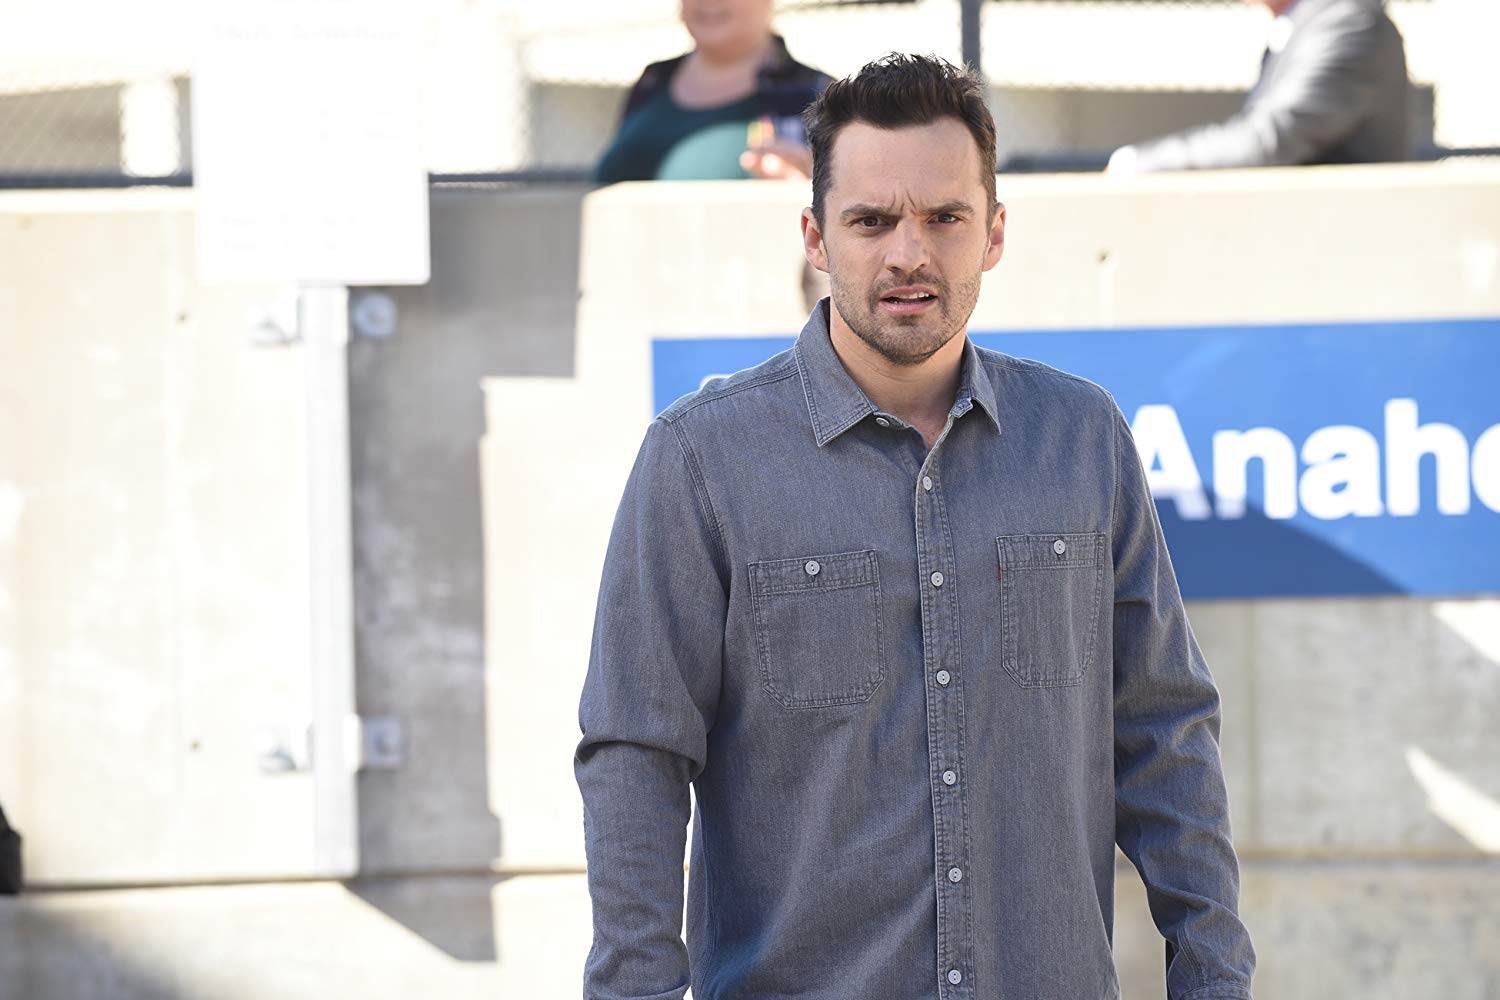person: (591, 70, 1269, 1000)
